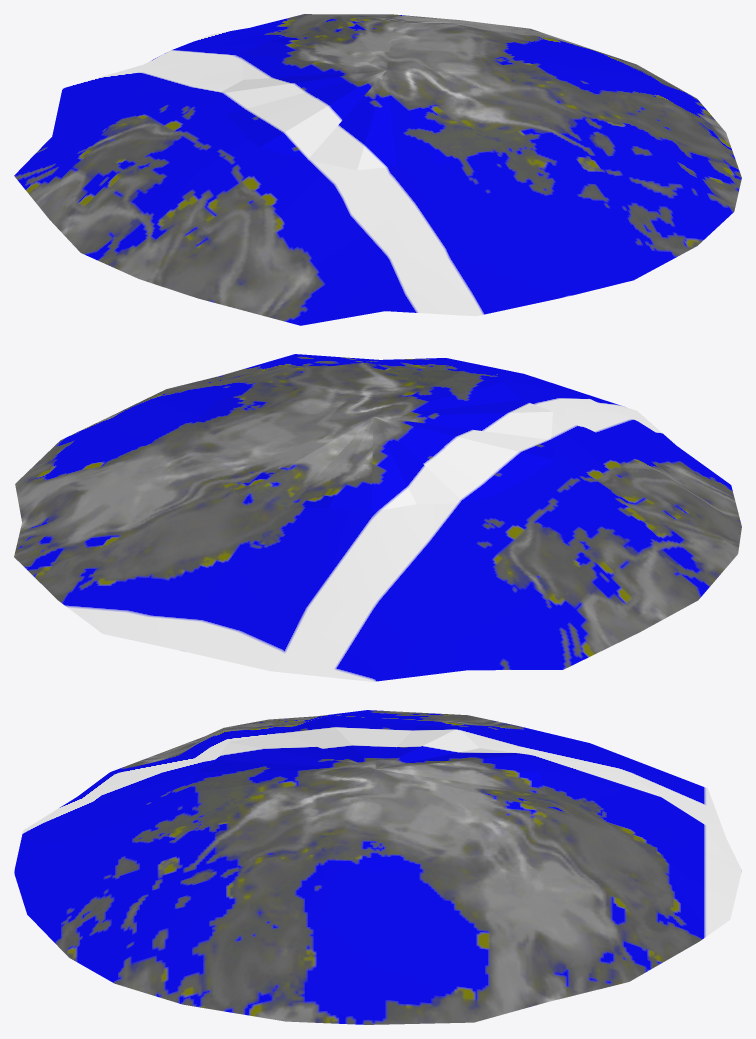
Rendered from fx_chongci_dun.FBX.
The picture shows the model from 3 angles, top to bottom: view 1: azimuth 30°, elevation 25°; view 2: azimuth 150°, elevation 25°; view 3: azimuth 270°, elevation 25°; orthographic projection. The views are drawn at different scales.
Parts seen in each view (by area): view 1: gedang_dun; view 2: gedang_dun; view 3: gedang_dun.
Boxes of the visible parts, <box> form: gedang_dun: <box>14,14,741,325</box>; gedang_dun: <box>14,354,741,681</box>; gedang_dun: <box>14,710,741,1024</box>.
Size of the model in its own units: 383 by 383 by 64.24.
Materials: 1 (1 with a texture image).
